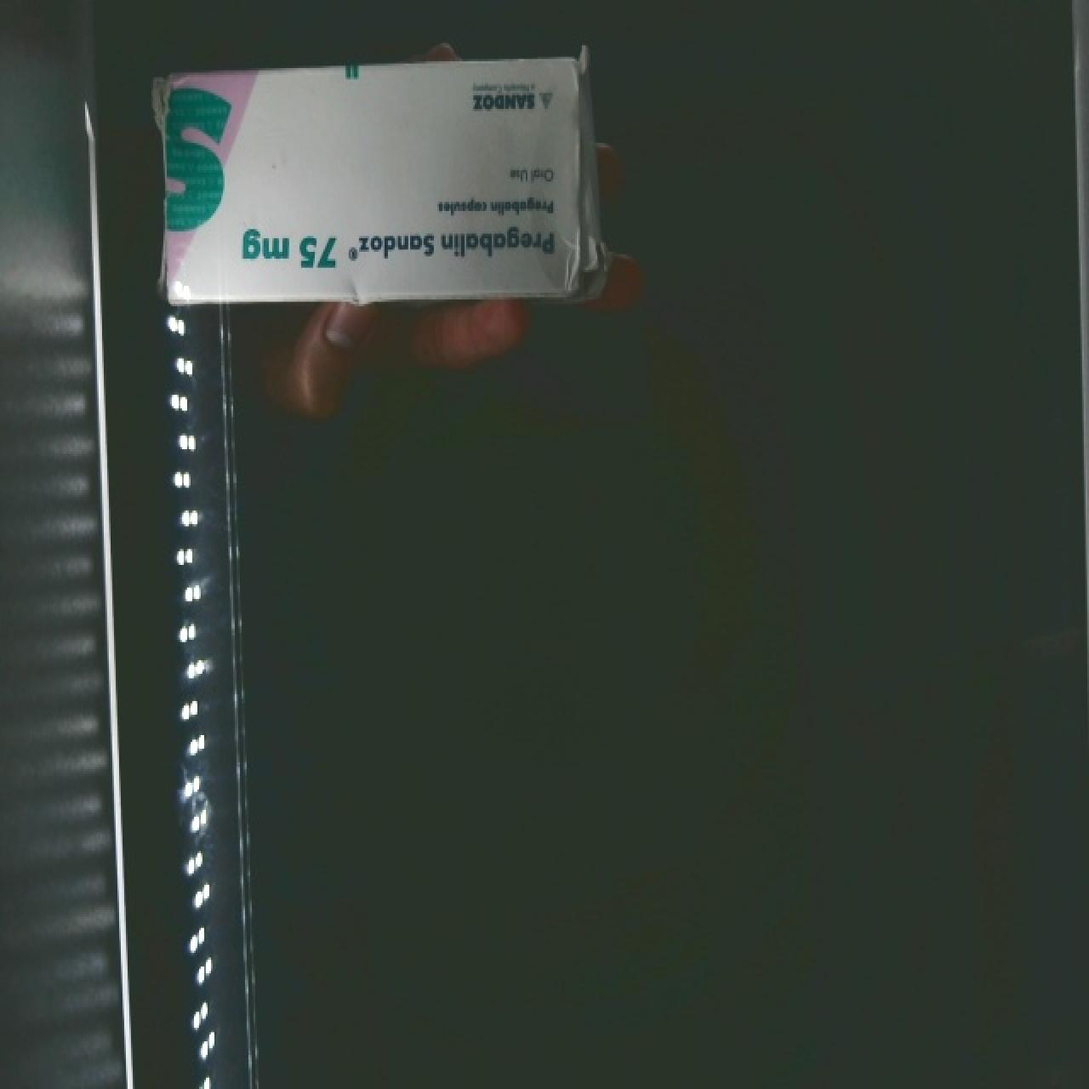medicine_label_obb: (343, 208, 582, 281)
